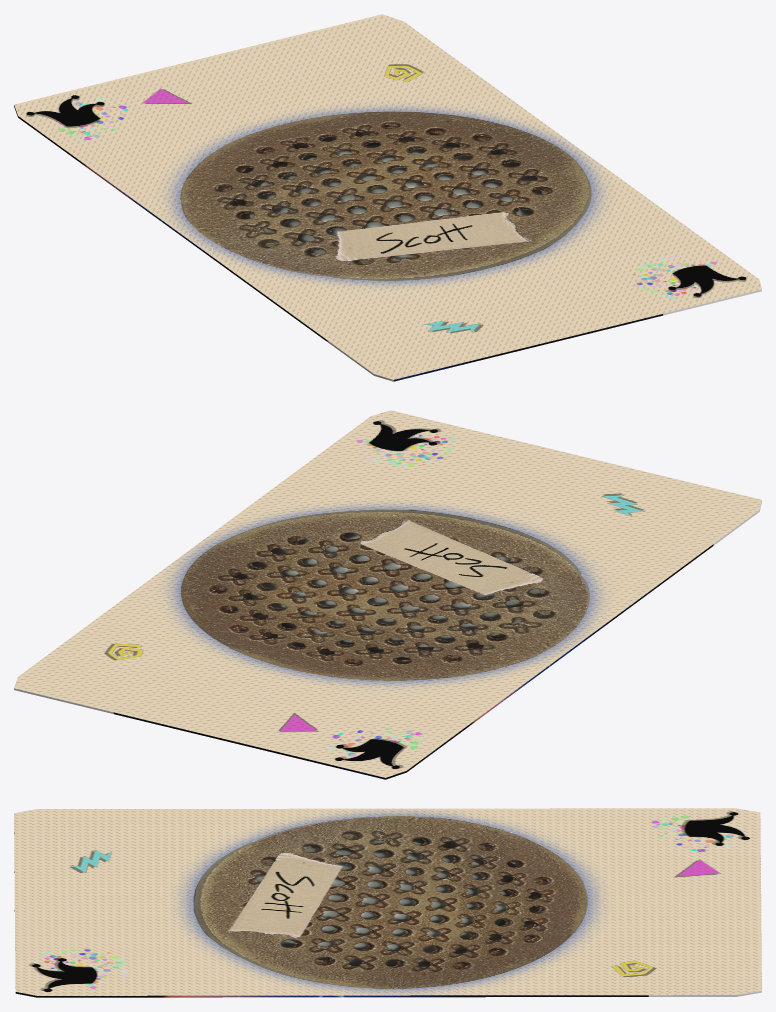
Rendered from Joker.glb.
3 views of the same model, one above another, from view 1: azimuth 30°, elevation 25°; view 2: azimuth 150°, elevation 25°; view 3: azimuth 270°, elevation 25° (orthographic).
Parts seen in each view (by area): view 1: pCube7_blinn7_0; view 2: pCube7_blinn7_0; view 3: pCube7_blinn7_0.
Part boxes in pixels (x1=…): pCube7_blinn7_0: x1=14, y1=14, x2=761, y2=381; pCube7_blinn7_0: x1=14, y1=410, x2=761, y2=779; pCube7_blinn7_0: x1=14, y1=808, x2=761, y2=997.
Bounding box in the file's own units: 3.23 × 0.0178 × 5.45.
1 material, 1 textured.
